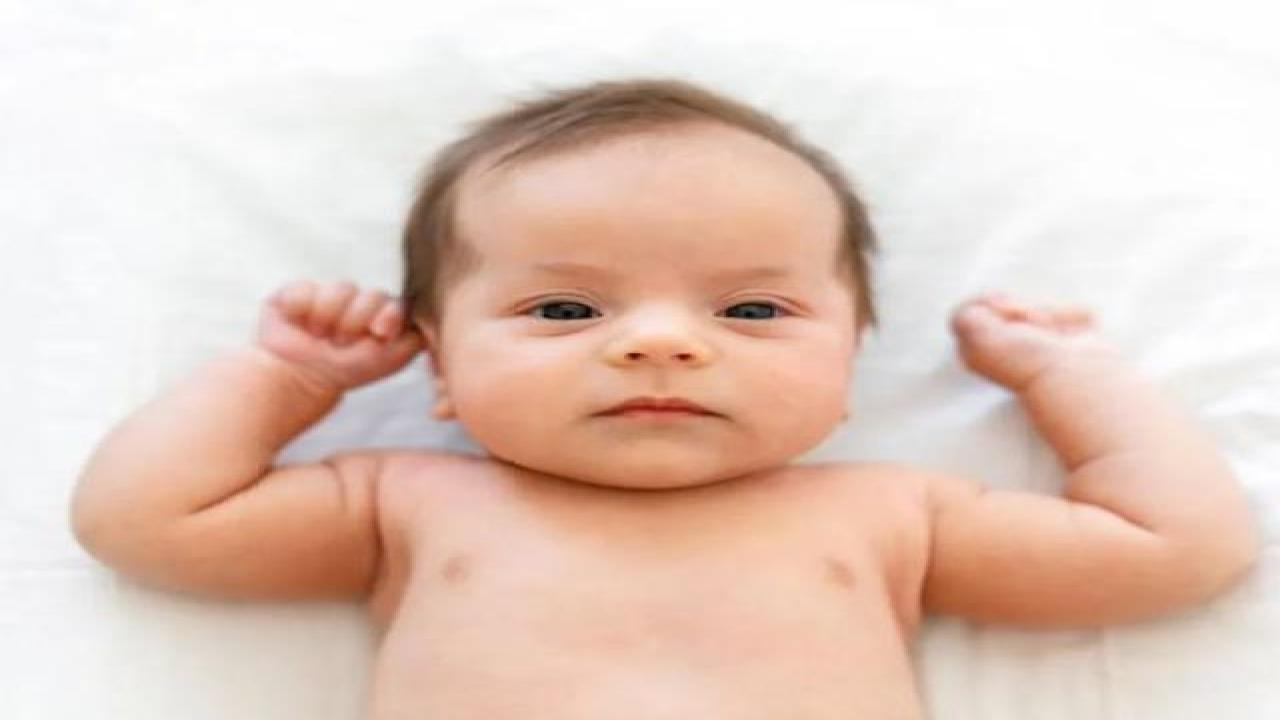hand: (253, 280, 429, 376), (953, 291, 1105, 382)
